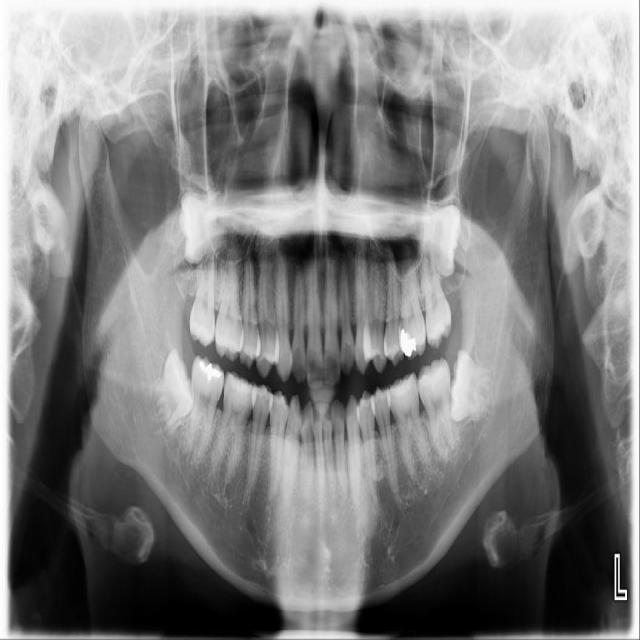3M ESPE Implant: (176, 186, 233, 264)
52: (184, 354, 230, 406), (398, 311, 427, 359)
73: (604, 538, 612, 554)
BioHorizons Implant: (416, 242, 456, 349)
BioLife Implant: (407, 198, 465, 278)
Biomet 3i Implant: (445, 347, 494, 424)
Blue Sky Bio Implant: (415, 356, 456, 459)
Caries: (188, 240, 218, 348)
Implant: (183, 354, 226, 460)
Keystone Dental Implant: (153, 349, 195, 434)
